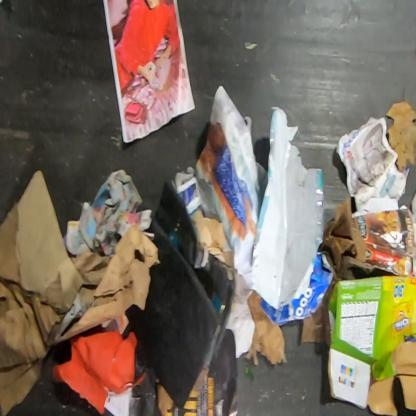cardboard: (0, 168, 160, 415), (327, 276, 416, 414), (319, 191, 415, 279), (245, 288, 286, 365)
soft_plastic: (250, 108, 325, 309)
